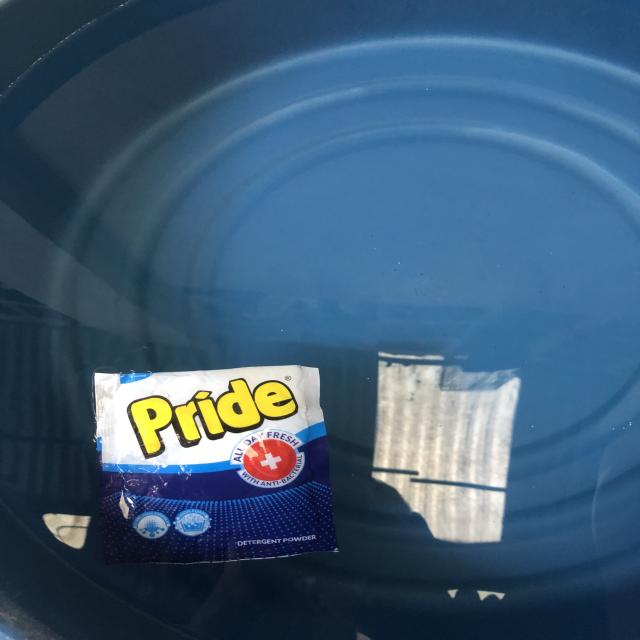Plastic Wrapper: (95, 365, 338, 564), (235, 437, 238, 443)
